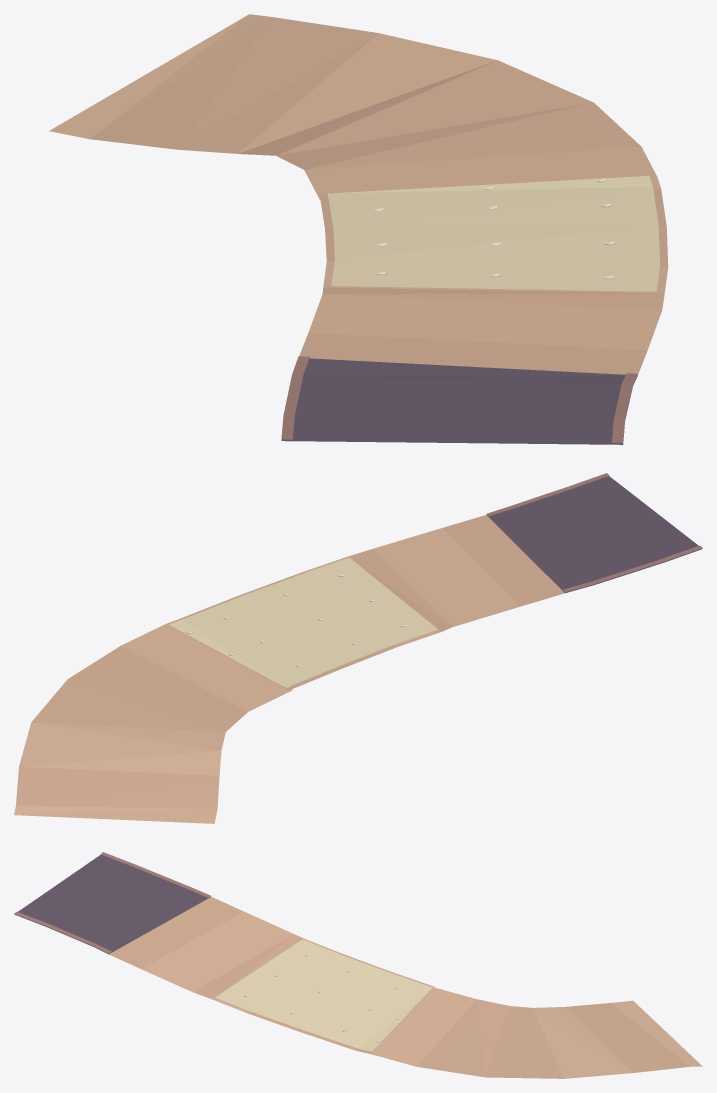
The model's file is tramo_pista_4.glb.
3 views of the same model, one above another, from view 1: azimuth 30°, elevation 25°; view 2: azimuth 150°, elevation 25°; view 3: azimuth 270°, elevation 25° (orthographic). The views are drawn at different scales.
Visible parts, largest first — view 1: tramo_pista_4; view 2: tramo_pista_4; view 3: tramo_pista_4.
Boxes of the visible parts, <box> form: tramo_pista_4: <box>49,14,668,444</box>; tramo_pista_4: <box>14,473,702,823</box>; tramo_pista_4: <box>14,852,702,1078</box>.
Size of the model in its own units: 19.7 by 4.12 by 33.86.
